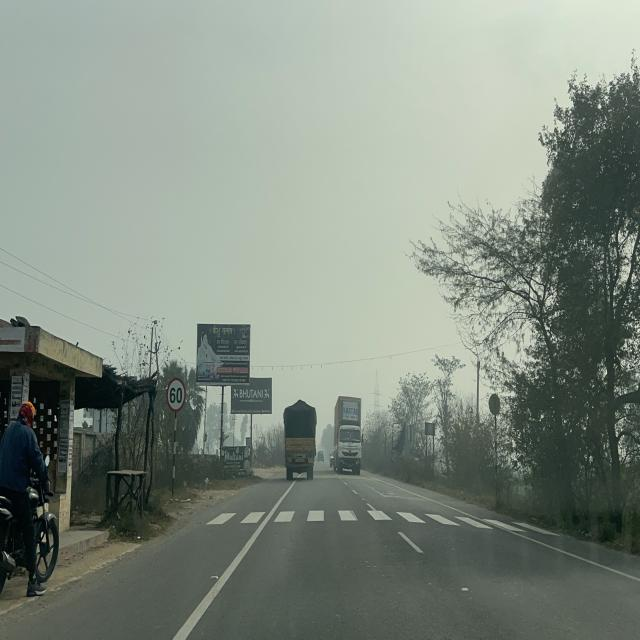SPEED_LIMIT_60: (166, 376, 187, 413)
